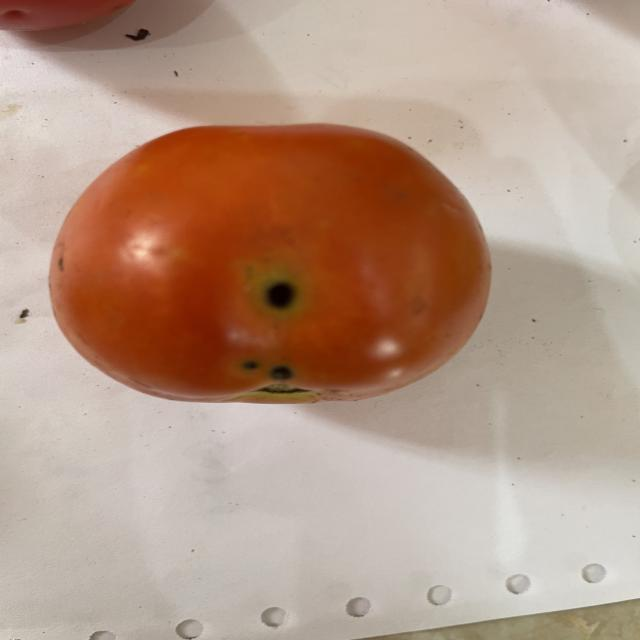fruitworm_bore: (238, 274, 304, 389)
